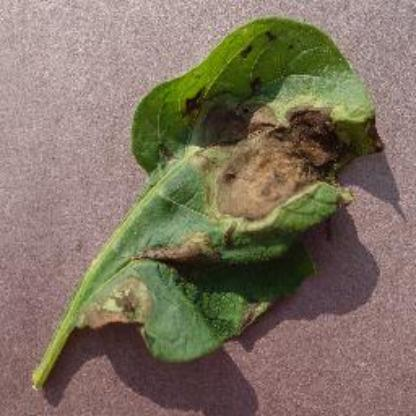Late-Blight: (30, 16, 386, 394)
